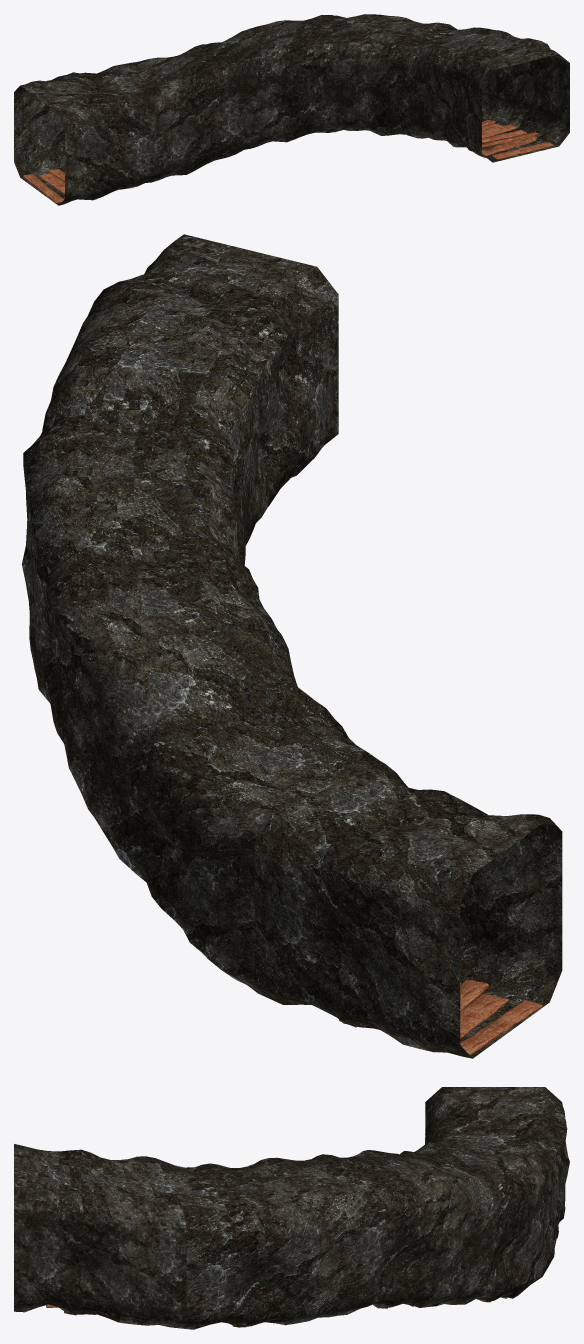
File: Cave_053.fbx
3 views of the same model, one above another, from view 1: azimuth 30°, elevation 25°; view 2: azimuth 150°, elevation 25°; view 3: azimuth 270°, elevation 25° (orthographic). The views are drawn at different scales.
Visible parts, largest first — view 1: Cave.053; view 2: Cave.053; view 3: Cave.053.
Part boxes in pixels (<box>): Cave.053: <box>14,14,569,205</box>; Cave.053: <box>22,234,562,1058</box>; Cave.053: <box>14,1087,569,1329</box>.
Size of the model in its own units: 1212 by 609 by 1217.
